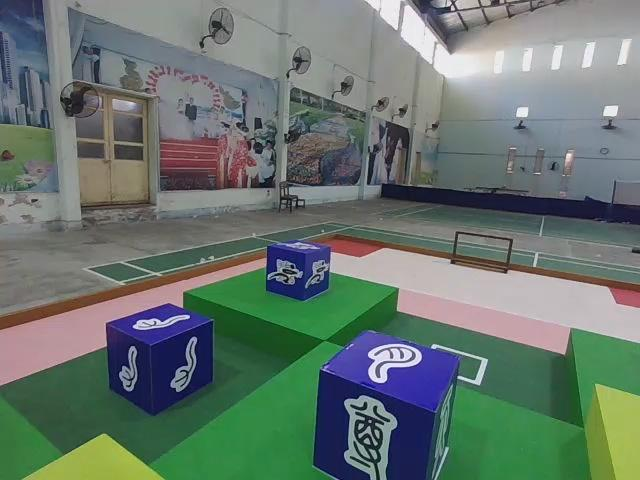R1 Blue: (264, 241, 332, 303)
R2 Fake Blue: (317, 330, 463, 480)
R2 Real Blue: (104, 307, 214, 419)
